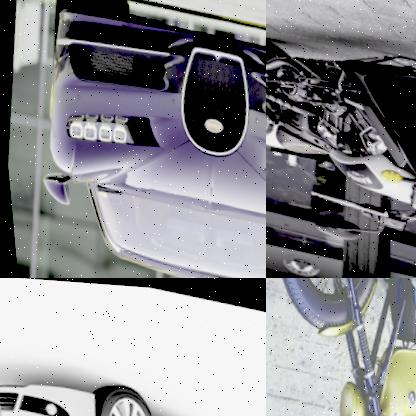bike: (266, 0, 416, 278), (266, 278, 416, 416)
car: (8, 0, 266, 278), (0, 364, 266, 416)
